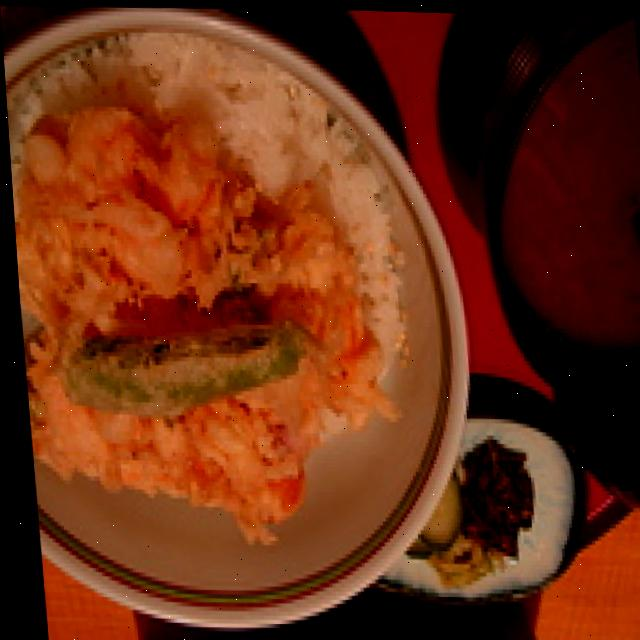汤锅炖物: (472, 11, 640, 440)
熟制海鲜: (0, 0, 493, 640)
